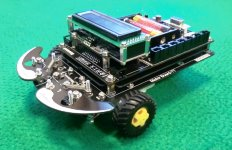Robot: (12, 4, 217, 138)
